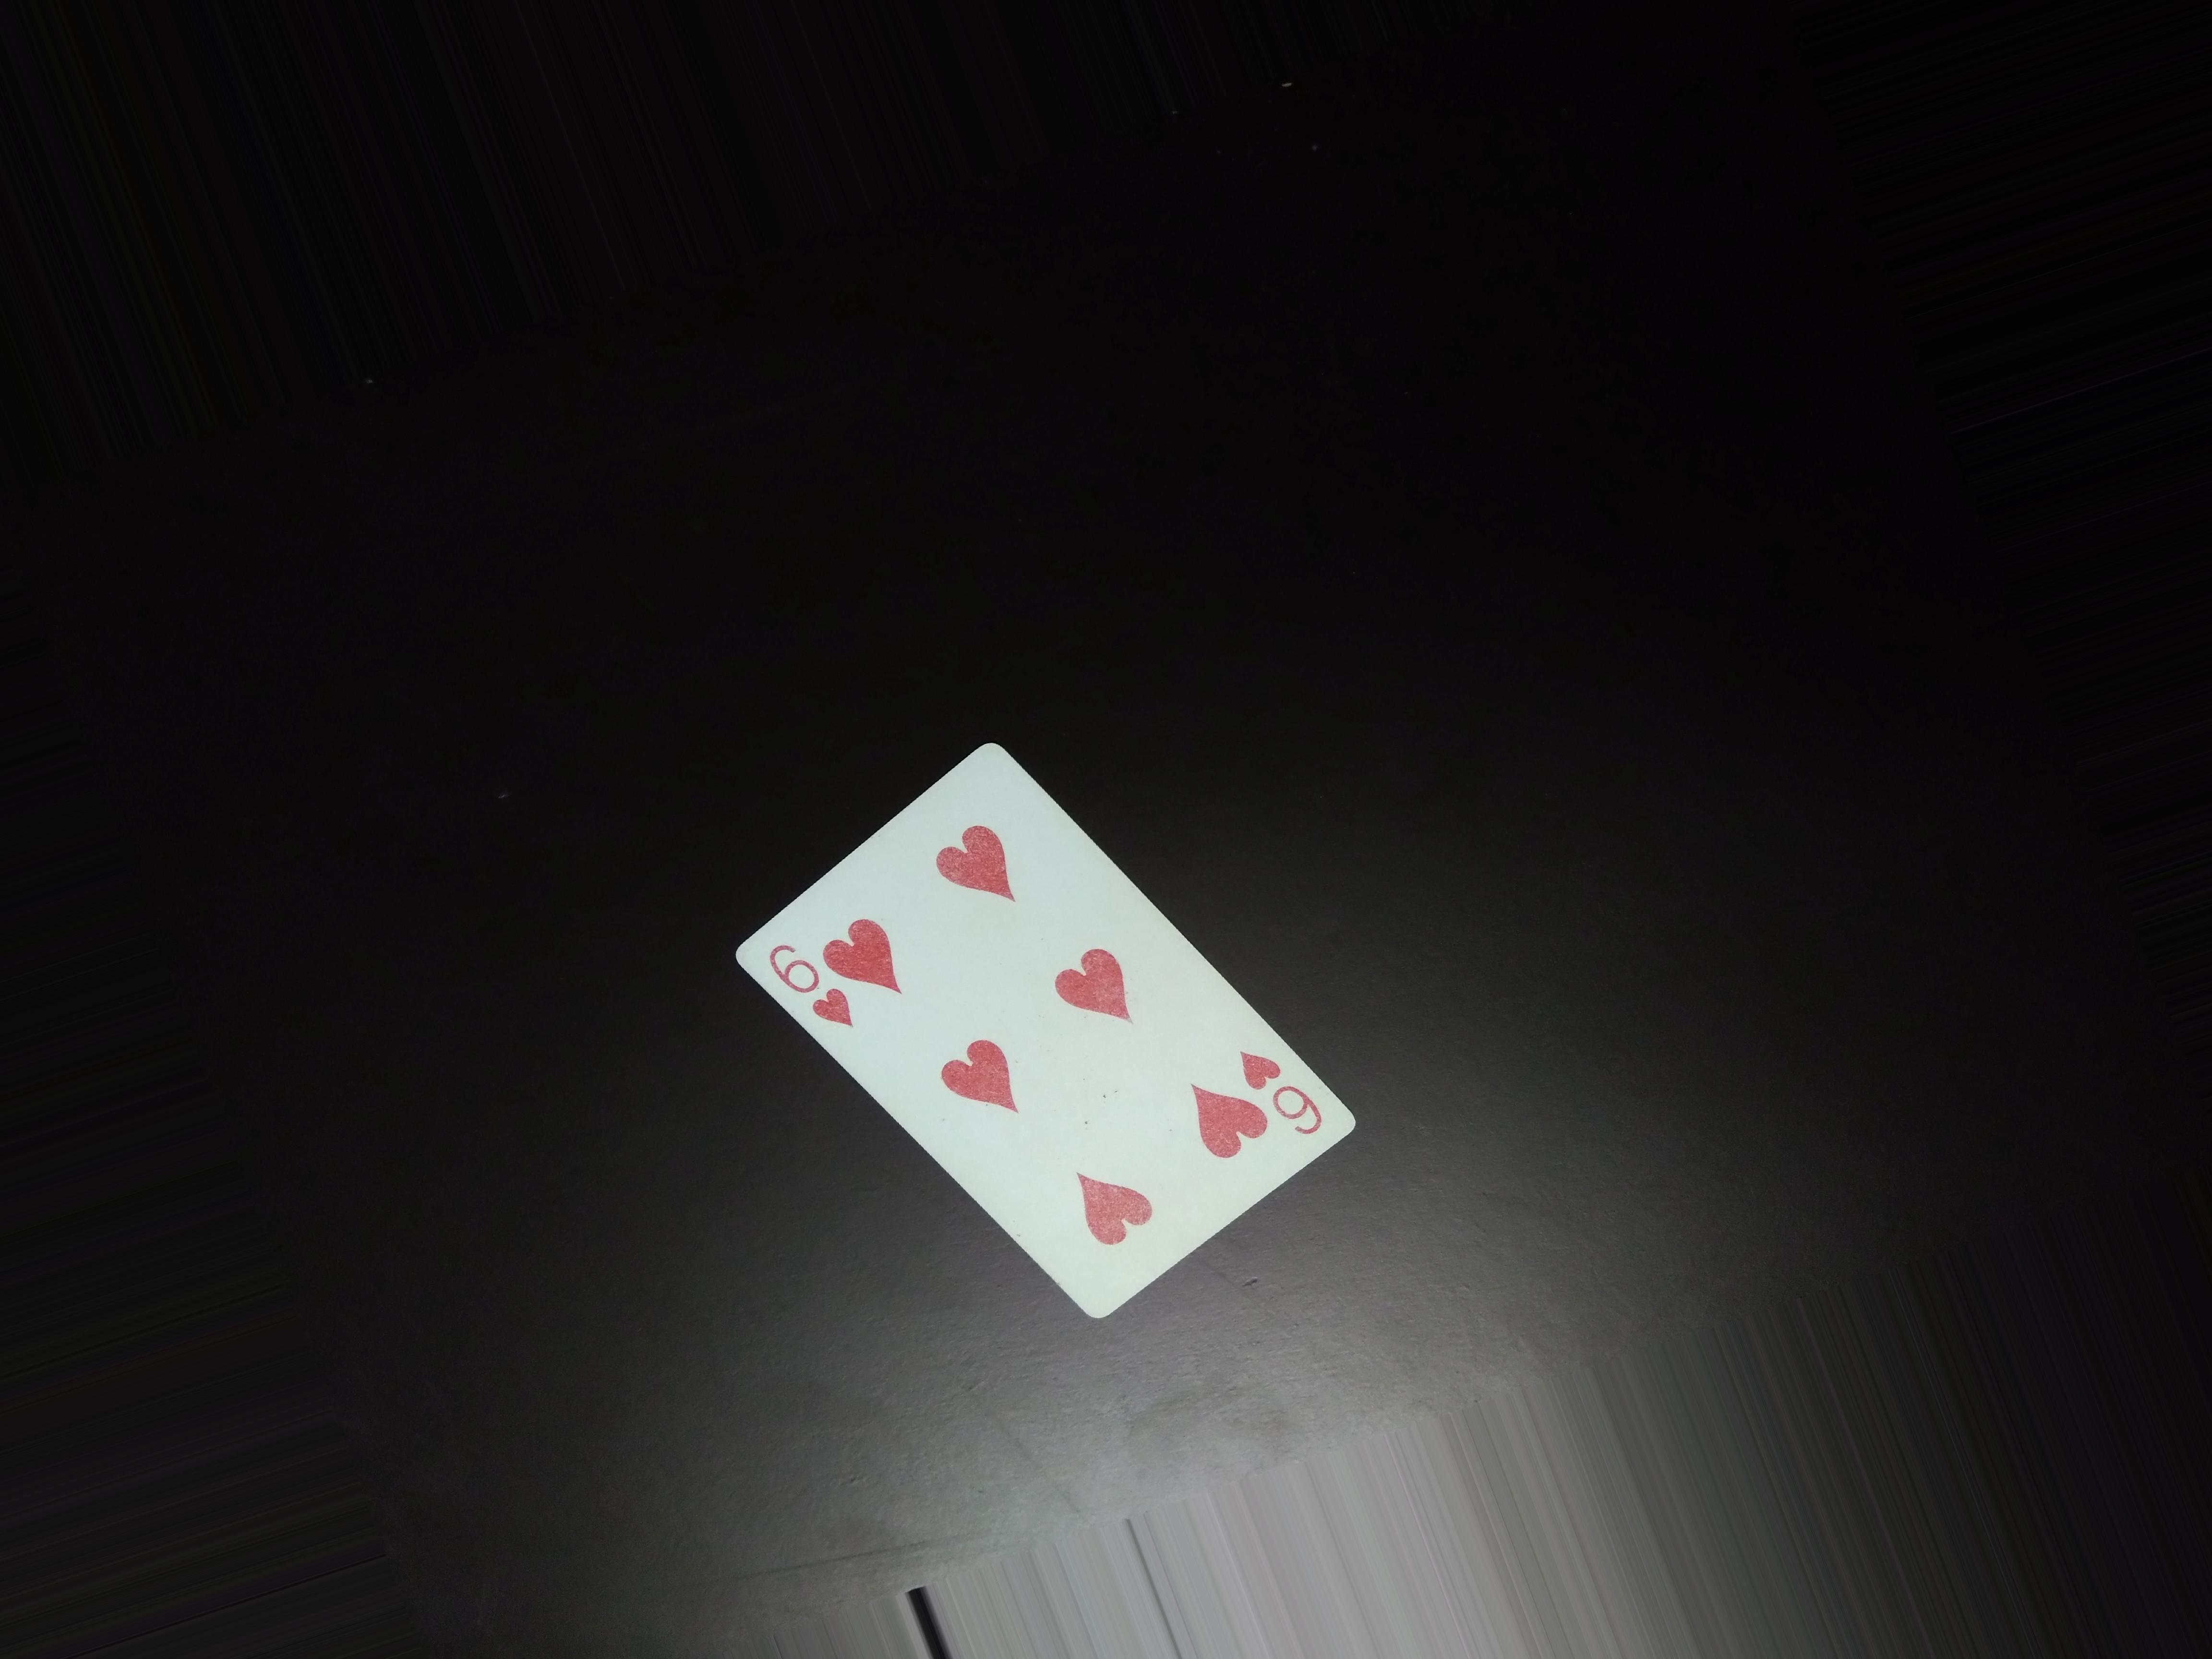6H: (761, 934, 866, 1035)
